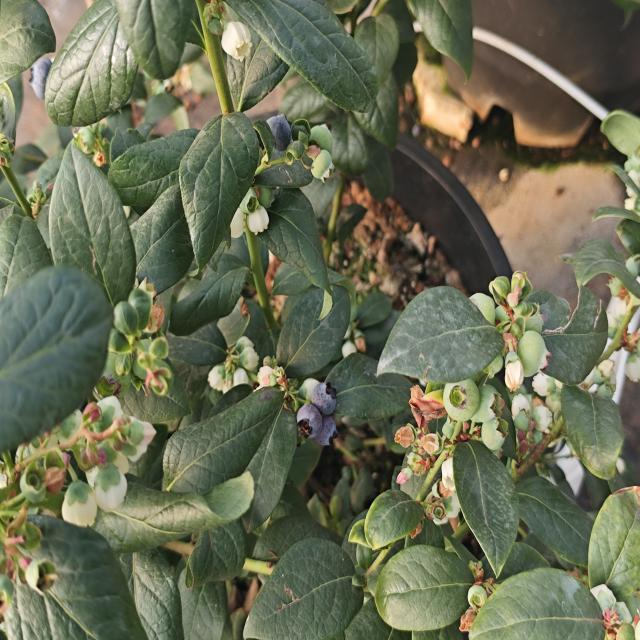ripe: (27, 49, 59, 102), (293, 398, 326, 444), (264, 110, 294, 156), (310, 378, 340, 420), (314, 412, 338, 454)
